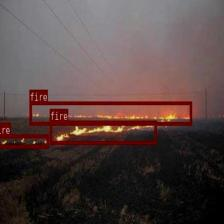fire: (28, 101, 191, 125), (50, 120, 156, 144), (0, 134, 48, 147)
